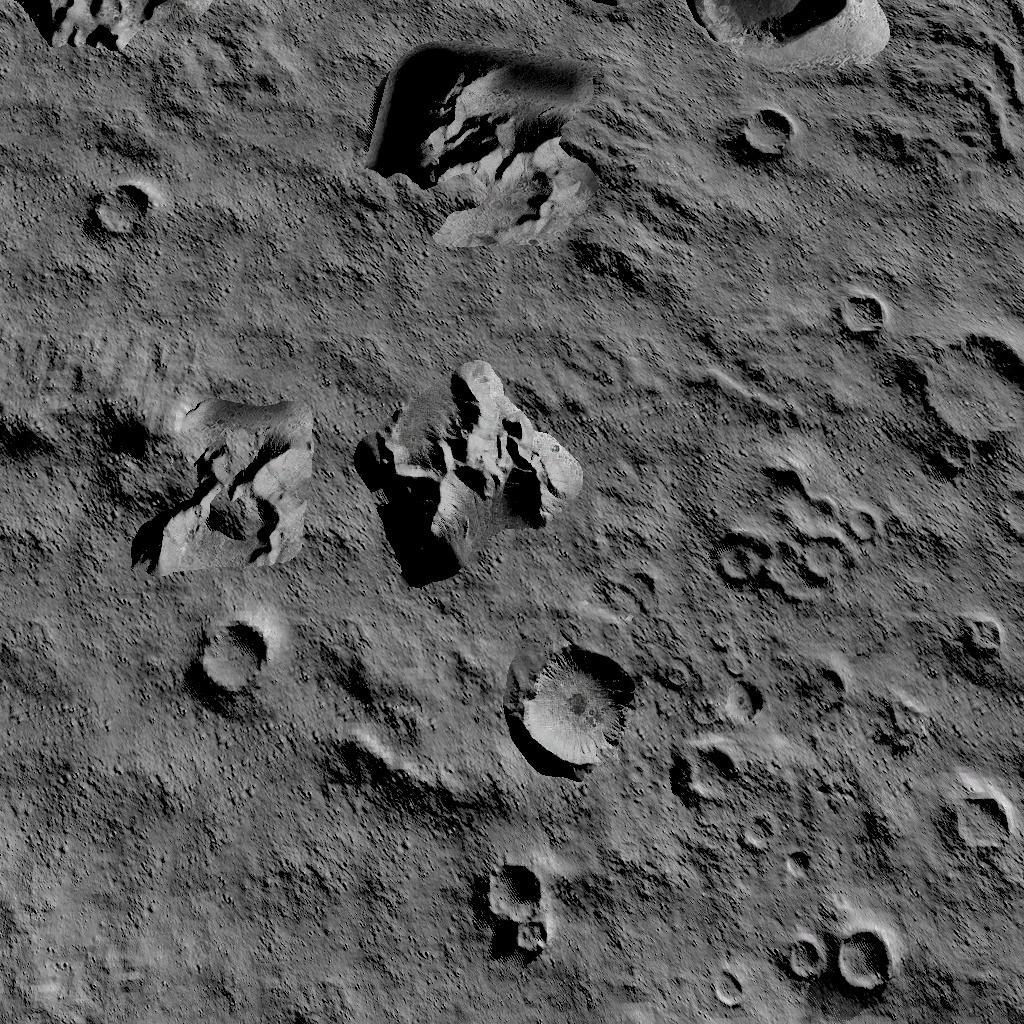Boulders: (1, 334, 318, 582), (346, 44, 610, 258), (347, 354, 585, 588), (0, 0, 238, 80), (327, 720, 497, 808)
Crater: (686, 440, 880, 612), (510, 646, 646, 780), (686, 0, 892, 87), (901, 334, 1024, 478), (775, 914, 902, 1020), (468, 862, 560, 984), (180, 614, 282, 714), (936, 782, 1018, 868), (717, 102, 806, 172), (85, 172, 163, 246), (672, 740, 746, 812), (829, 286, 889, 348), (805, 654, 854, 720), (947, 608, 1006, 662), (713, 674, 766, 728)
Plan surface: (2, 598, 171, 1024), (184, 814, 452, 1024), (182, 722, 312, 804)
